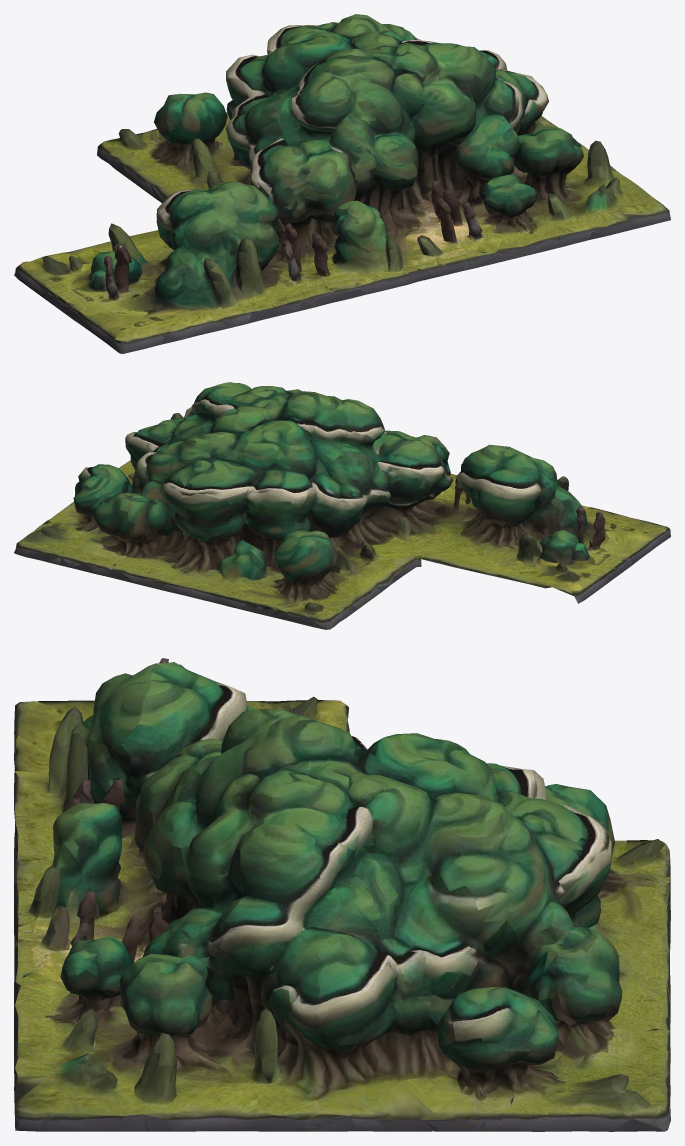
File: bosco.glb
3 renders of one model, top to bottom at view 1: azimuth 30°, elevation 25°; view 2: azimuth 150°, elevation 25°; view 3: azimuth 270°, elevation 25°, orthographic. The views are drawn at different scales.
Size of the model in its own units: 3 by 0.788 by 2.
1 material, 1 textured.
